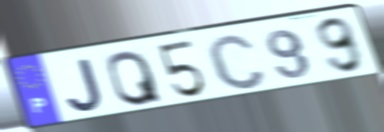5: (155, 38, 208, 100)
9: (313, 15, 366, 76), (264, 27, 311, 80)
C: (204, 32, 269, 92)
J: (64, 56, 106, 114)
Q: (105, 48, 165, 108)
